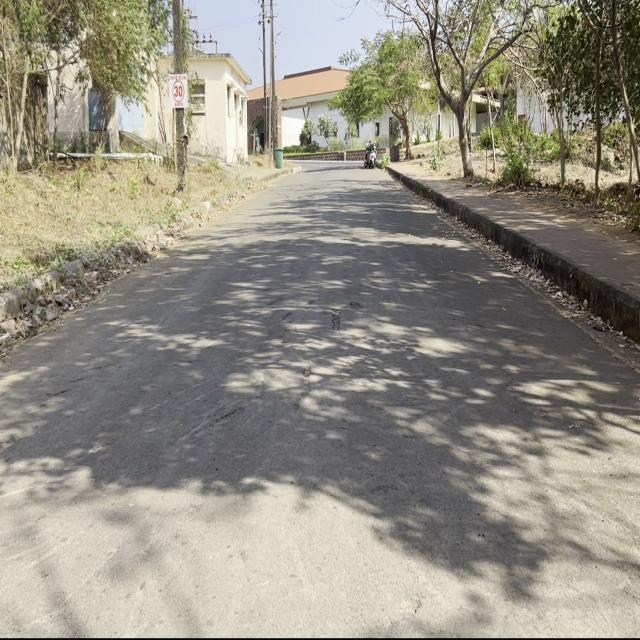Road: (6, 172, 636, 632)
